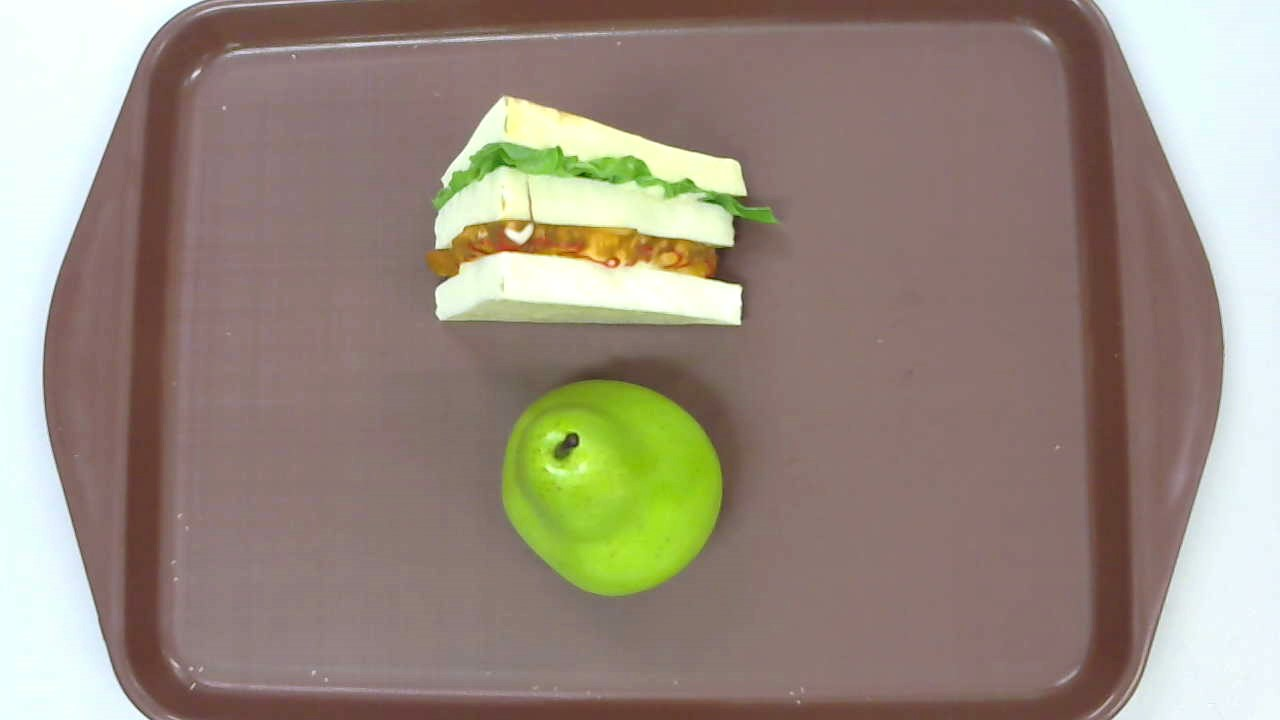green pear: (499, 379, 723, 597)
sandwich: (423, 95, 784, 328)
